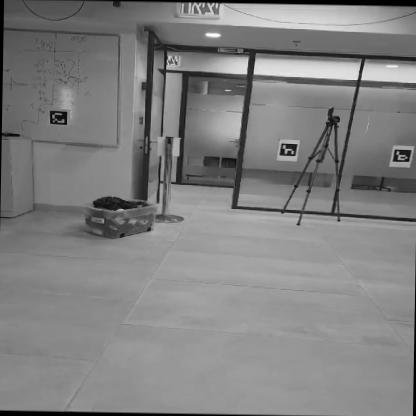open: (142, 69, 258, 214)
